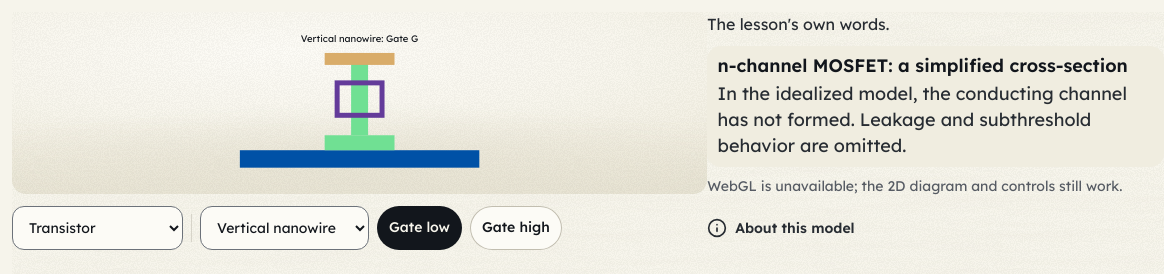
Test case: a 3D scene on a lesson slide › gives the semiconductor topic, geometry and gate one compact row
Expected: the 1st dropdown named "Choose a topic" shows "Transistor", x1=12 y1=206 x2=183 y2=250
Expected: the 2nd dropdown named "Device geometry" shows "Vertical nanowire", x1=200 y1=206 x2=369 y2=250
Step 1. Click the button "Gate high" → coordinates (516, 228), box x1=470 y1=206 x2=562 y2=250
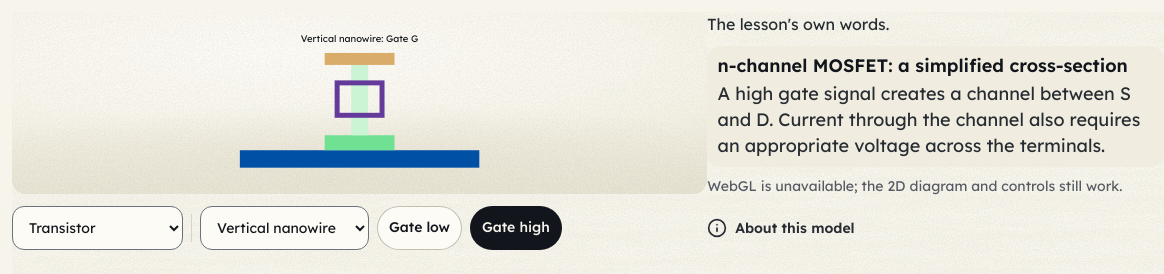
Result: the message shows "creates a channel between S and D" at x1=718 y1=82 x2=1140 y2=157
Step 2. Select "CMOS inverter" in the 1st dropdown named "Choose a topic" → coordinates (98, 228), box x1=12 y1=206 x2=183 y2=250
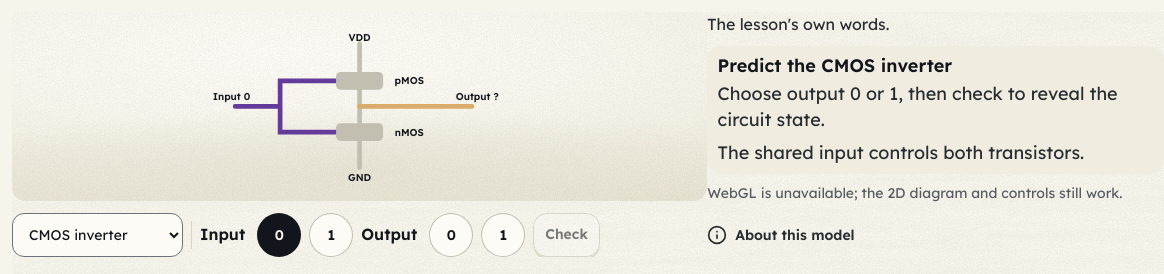
Result: the button with aria-label "Check prediction" reads "Check" at x1=533 y1=213 x2=600 y2=257
